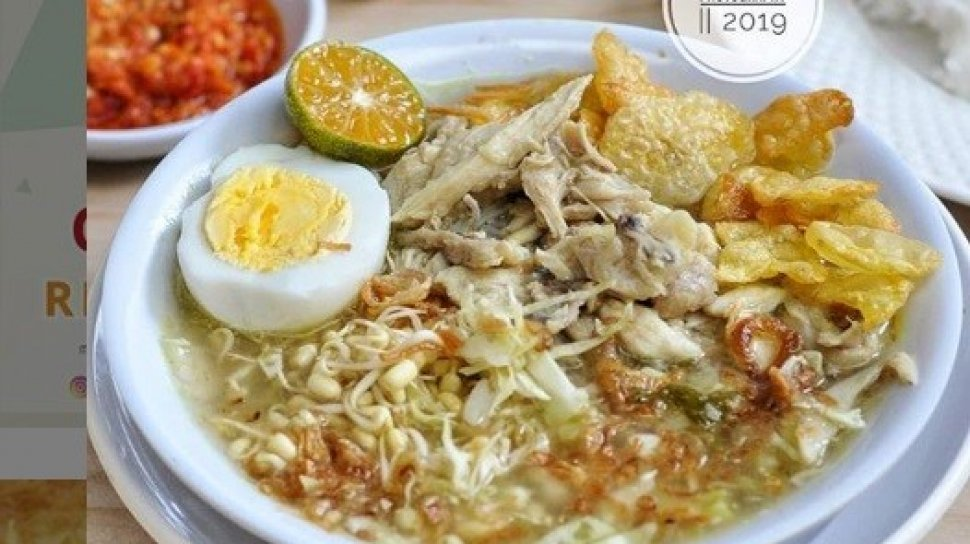soto: (155, 1, 968, 539)
